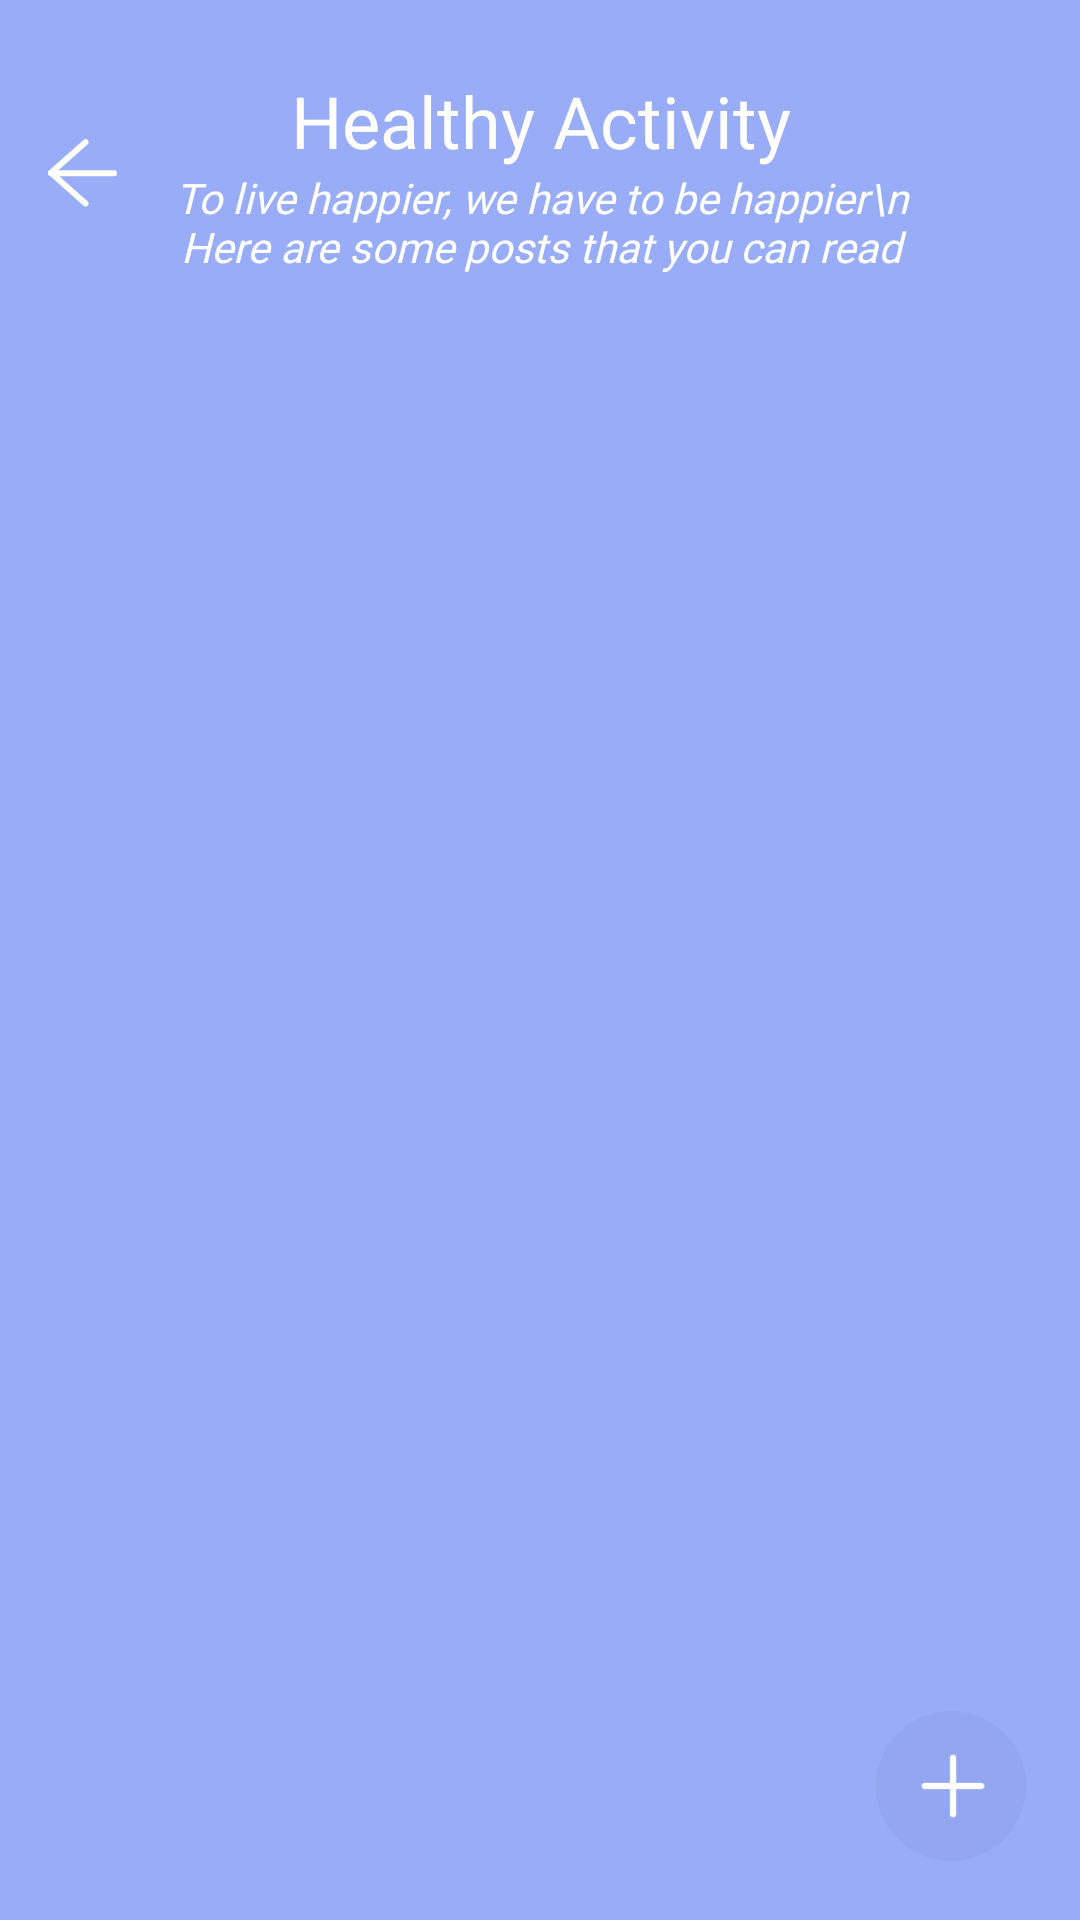

Icons on this 1080×1920 Android screen, each with the point to tap as (x=x, y=y):
add room: (x=951, y=1786)
